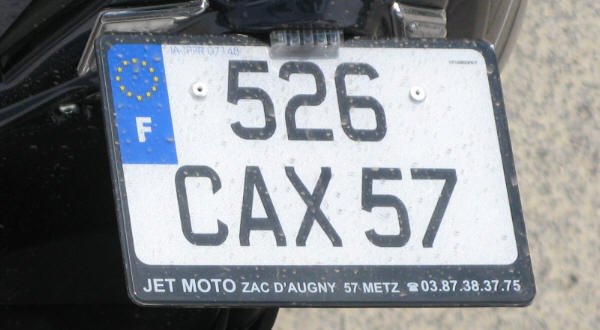license_plate: (96, 34, 535, 310)
